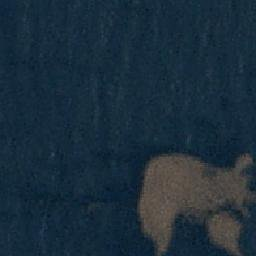debris: (137, 151, 200, 211), (198, 166, 256, 211), (206, 209, 245, 249), (139, 212, 178, 246), (235, 151, 254, 170)
